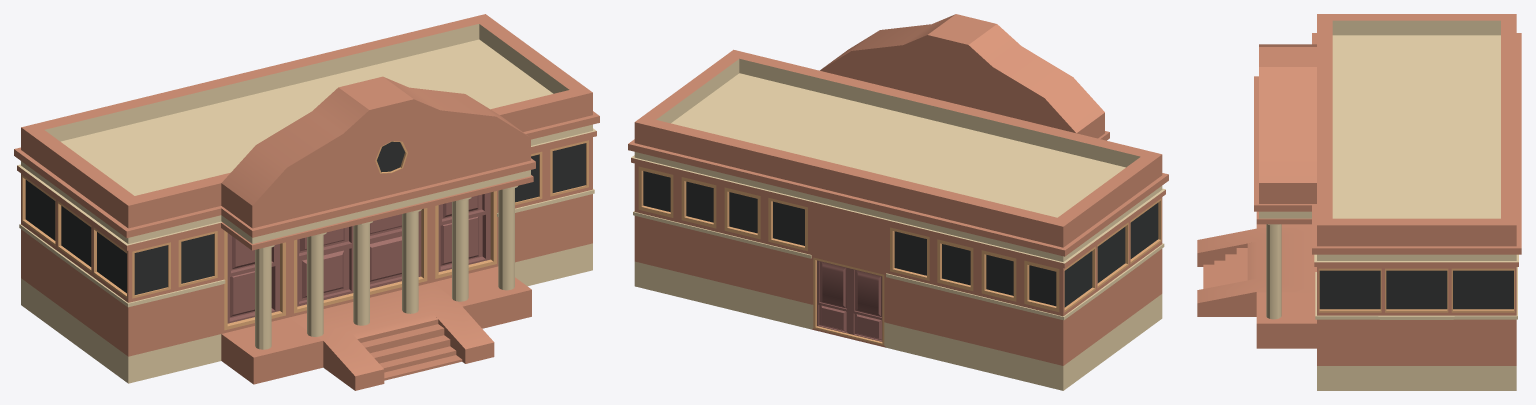
Rendered from government-building-city-hall.fbx.
3 renders of one model, left to right at view 1: azimuth 30°, elevation 25°; view 2: azimuth 150°, elevation 25°; view 3: azimuth 270°, elevation 25°, orthographic. The views are drawn at different scales.
Visible parts, largest first — view 1: government-building-city-hall; view 2: government-building-city-hall; view 3: government-building-city-hall.
Part boxes in pixels (x1,y1,x2,y2): government-building-city-hall: (14, 14, 599, 390); government-building-city-hall: (628, 14, 1168, 390); government-building-city-hall: (1197, 14, 1521, 390).
Bounding box in the file's own units: 21.44 × 10.61 × 13.66.
